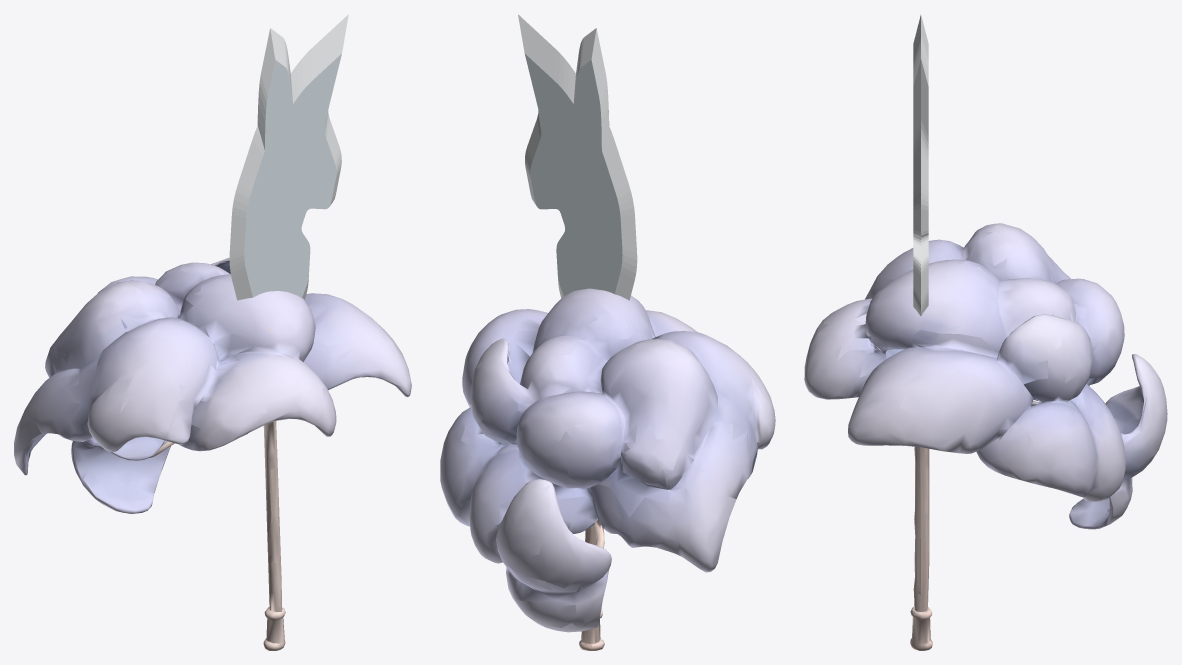
The model's file is aya-weapon.fbx.
3 views of the same model, side by side, from view 1: azimuth 30°, elevation 25°; view 2: azimuth 150°, elevation 25°; view 3: azimuth 270°, elevation 25° (orthographic).
Visible parts, largest first — view 1: aya_weapon, Aya_Blade_3, Aya_Blade_2, Aya_Blade_1; view 2: aya_weapon, Aya_Blade_3, Aya_Blade_2, Aya_Blade_1; view 3: aya_weapon, Aya_Blade_3, Aya_Blade_2.
Part boxes in pixels (<box>): aya_weapon: <box>14,257,411,650</box>; Aya_Blade_3: <box>229,14,348,300</box>; Aya_Blade_2: <box>257,28,297,292</box>; Aya_Blade_1: <box>271,104,318,291</box>; aya_weapon: <box>440,288,775,650</box>; Aya_Blade_3: <box>518,14,637,300</box>; Aya_Blade_2: <box>569,28,609,290</box>; Aya_Blade_1: <box>548,104,594,290</box>; aya_weapon: <box>804,223,1167,650</box>; Aya_Blade_3: <box>913,59,928,315</box>; Aya_Blade_2: <box>913,15,928,86</box>.
Bounding box in the file's own units: 121 × 232 × 121.
Materials: 3 (1 with a texture image).
